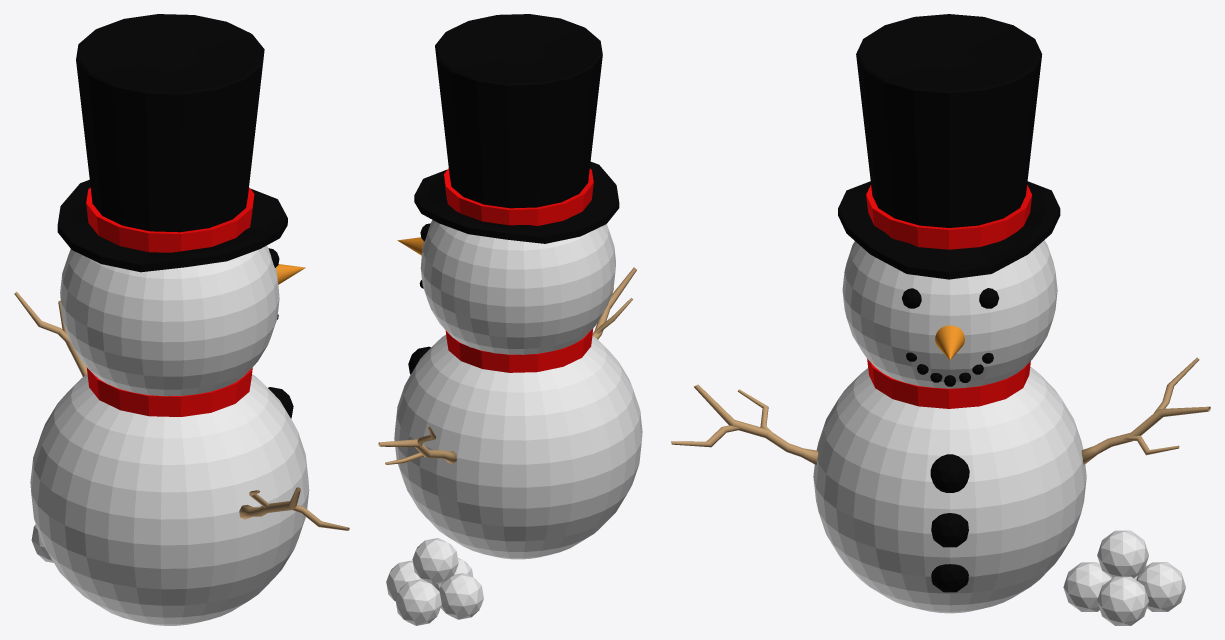
File: Snowman Unwrap.fbx
3 renders of one model, left to right at view 1: azimuth 30°, elevation 25°; view 2: azimuth 150°, elevation 25°; view 3: azimuth 270°, elevation 25°, orthographic. The views are drawn at different scales.
Visible parts, largest first — view 1: Icosphere.001; view 2: Icosphere.001; view 3: Icosphere.001.
Part boxes in pixels (bbox=[...]): Icosphere.001: bbox=[14, 14, 349, 625]; Icosphere.001: bbox=[378, 14, 642, 625]; Icosphere.001: bbox=[671, 14, 1210, 625].
Bounding box in the file's own units: 213 × 449 × 395.
